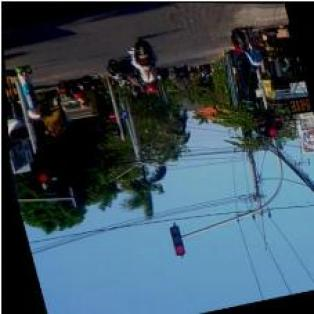Semaforo Rojo: (28, 151, 47, 184), (258, 106, 276, 137), (167, 226, 182, 255)
